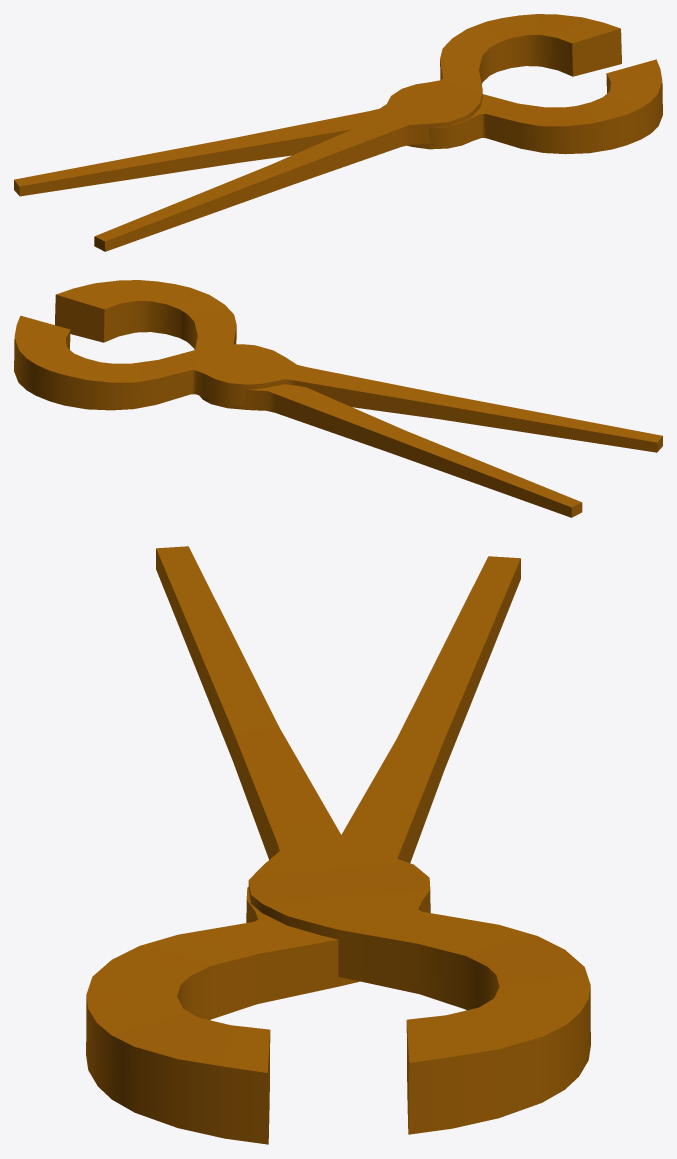
The model's file is Mod_tongs_LODs.fbx.
3 views of the same model, one above another, from view 1: azimuth 30°, elevation 25°; view 2: azimuth 150°, elevation 25°; view 3: azimuth 270°, elevation 25° (orthographic). The views are drawn at different scales.
Visible parts, largest first — view 1: tongs_LOD0; view 2: tongs_LOD0; view 3: tongs_LOD0.
Part boxes in pixels (x1=…): tongs_LOD0: x1=14, y1=14, x2=662, y2=251; tongs_LOD0: x1=14, y1=280, x2=662, y2=517; tongs_LOD0: x1=86, y1=546, x2=590, y2=1144.
Size of the model in its own units: 39.27 by 2.63 by 14.73.
